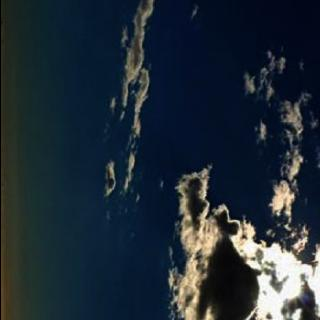Nimbostratus: (102, 0, 320, 320)
